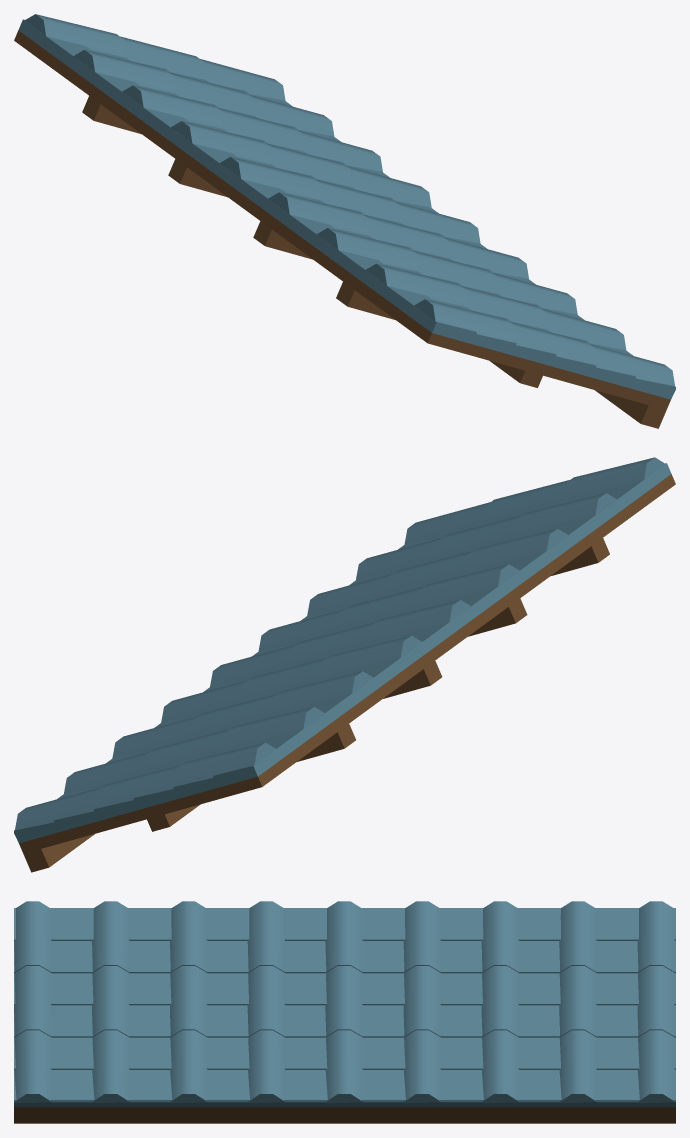
Rendered from BlueRoof_Short.fbx.
3 renders of one model, top to bottom at view 1: azimuth 30°, elevation 25°; view 2: azimuth 150°, elevation 25°; view 3: azimuth 270°, elevation 25°, orthographic. The views are drawn at different scales.
Parts seen in each view (by area): view 1: BlueRoof_Short; view 2: BlueRoof_Short; view 3: BlueRoof_Short.
Boxes of the visible parts, x1=… form: BlueRoof_Short: x1=14, y1=14, x2=675, y2=428; BlueRoof_Short: x1=14, y1=457, x2=675, y2=872; BlueRoof_Short: x1=14, y1=901, x2=675, y2=1123.
Size of what is drawn, in the model's own units: 130 by 82.19 by 360.
